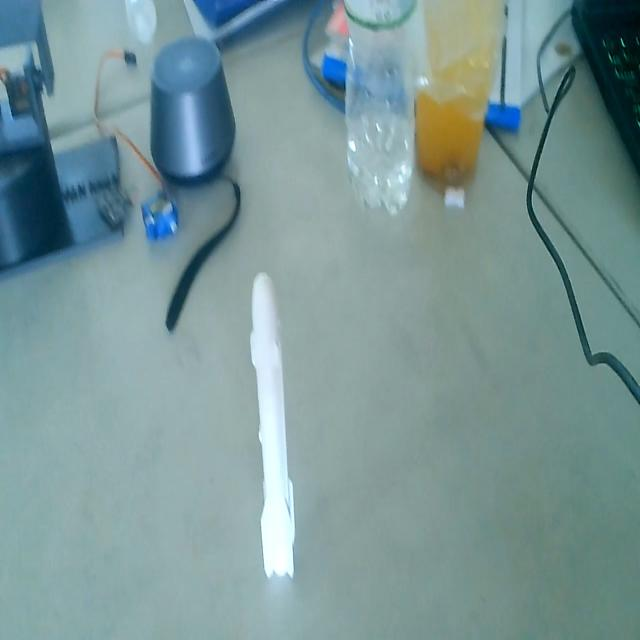Rocket: (249, 270, 301, 581)
